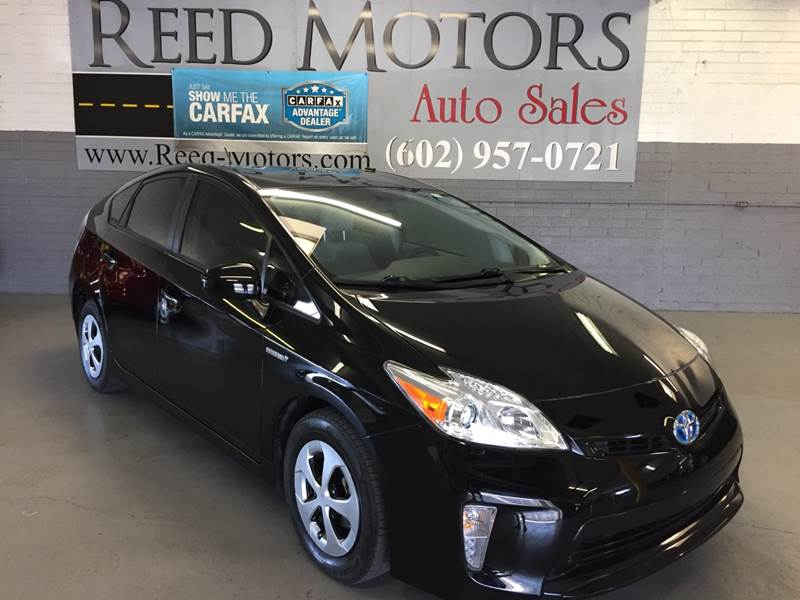Toyota Prius: (67, 162, 746, 600)
